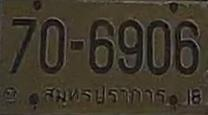0: (40, 18, 64, 73), (146, 20, 170, 75)
6: (88, 18, 113, 74), (174, 20, 199, 74)
7: (10, 18, 36, 74)
9: (118, 19, 142, 74)
SPK: (40, 82, 169, 110)
